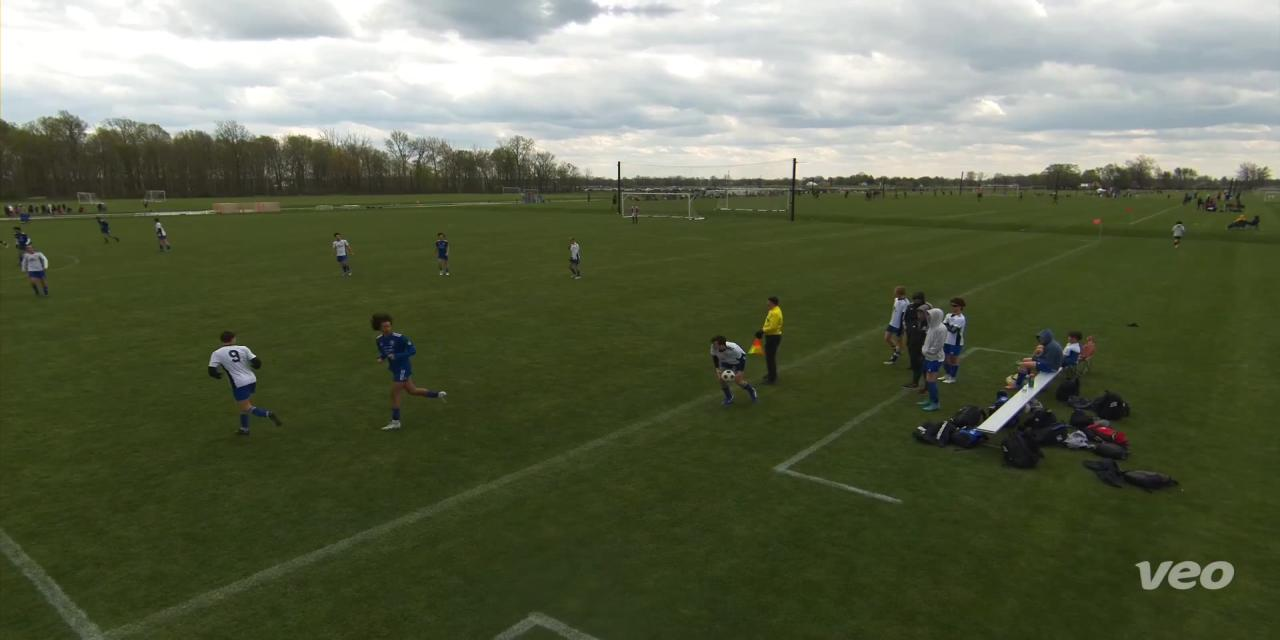goal: (619, 187, 704, 225)
sports ball: (718, 364, 742, 387)
